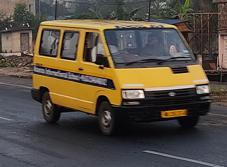Auto: (29, 17, 213, 136)
